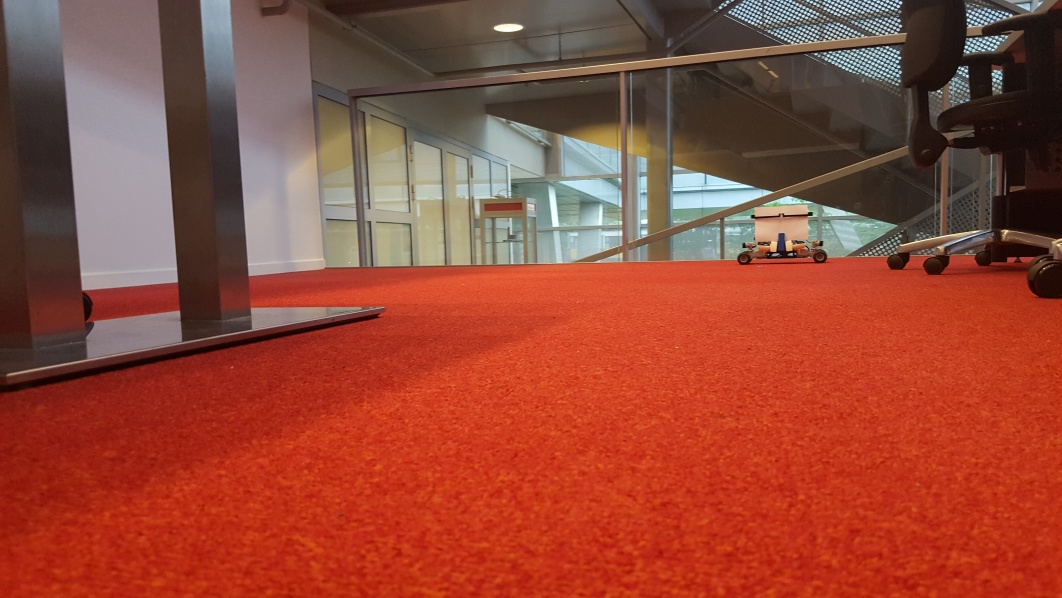car: (736, 201, 829, 263)
